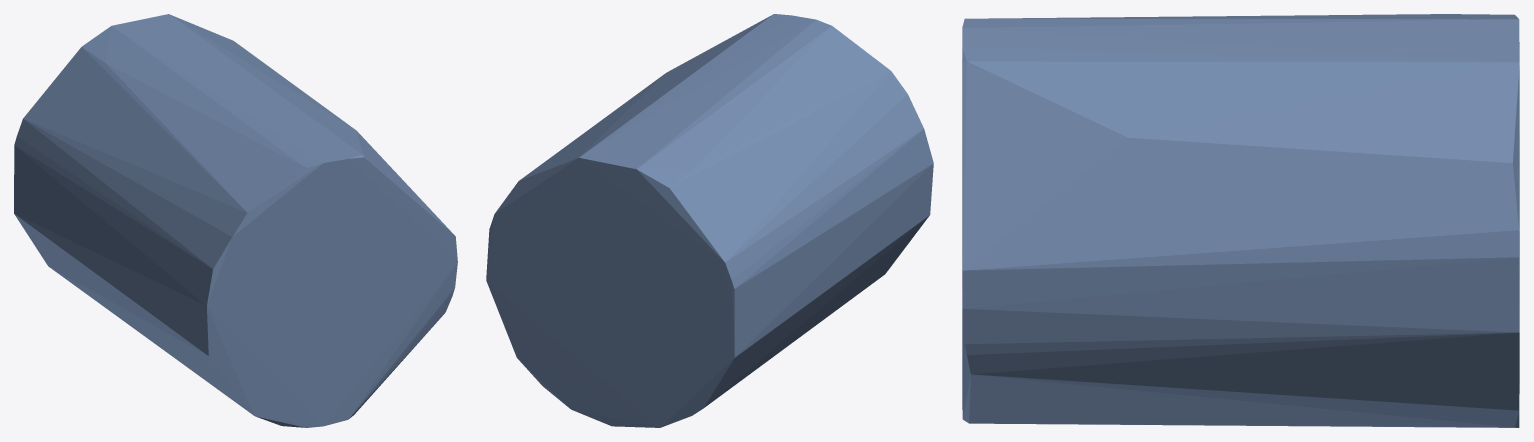
File: food_canned_peach_a03.glb
3 views of the same model, side by side, from view 1: azimuth 30°, elevation 25°; view 2: azimuth 150°, elevation 25°; view 3: azimuth 270°, elevation 25° (orthographic). The views are drawn at different scales.
Parts seen in each view (by area): view 1: geometry_0; view 2: geometry_0; view 3: geometry_0.
Part boxes in pixels (x1,y1,x2,y2): geometry_0: (14, 14, 457, 427); geometry_0: (486, 14, 933, 427); geometry_0: (962, 14, 1519, 427).
Bounding box in the file's own units: 0.3554 × 0.357 × 0.48.
